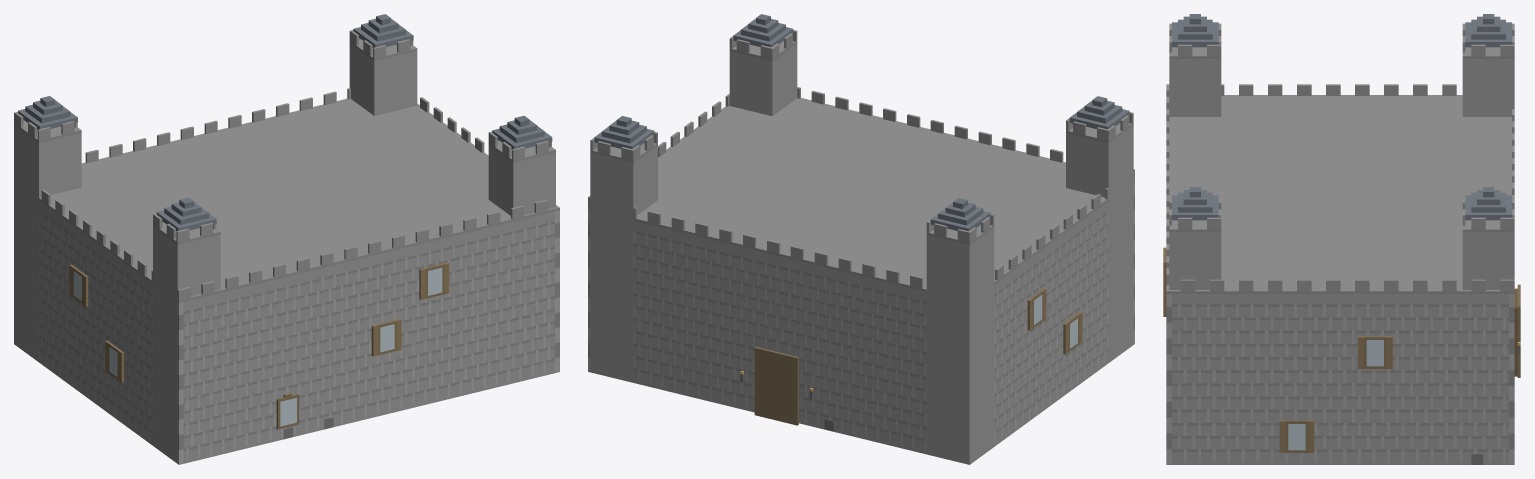
The model's file is castillo_03.glb.
3 renders of one model, left to right at view 1: azimuth 30°, elevation 25°; view 2: azimuth 150°, elevation 25°; view 3: azimuth 270°, elevation 25°, orthographic. The views are drawn at different scales.
Parts seen in each view (by area): view 1: castillo_03; view 2: castillo_03; view 3: castillo_03.
Boxes of the visible parts, box(x1,y1,x2,y2) form: castillo_03: box(14, 14, 559, 464); castillo_03: box(588, 14, 1134, 464); castillo_03: box(1163, 14, 1520, 464).
Size of the model in its own units: 16.2 by 10 by 12.3.
